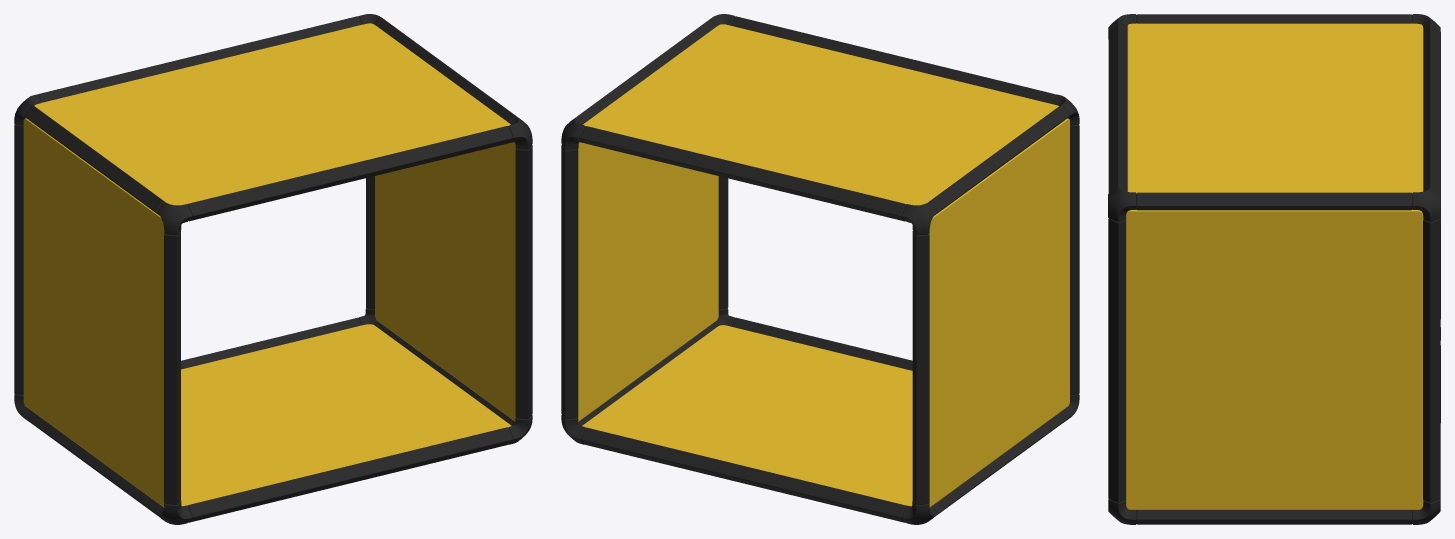
3 renders of one model, left to right at view 1: azimuth 30°, elevation 25°; view 2: azimuth 150°, elevation 25°; view 3: azimuth 270°, elevation 25°, orthographic. The views are drawn at different scales.
Parts seen in each view (by area): view 1: 523x374x420; view 2: 523x374x420; view 3: 523x374x420.
Part boxes in pixels (x1=…): 523x374x420: x1=14, y1=14, x2=532, y2=524; 523x374x420: x1=561, y1=14, x2=1079, y2=524; 523x374x420: x1=1108, y1=14, x2=1440, y2=524.
Size of the model in its own units: 0.6007 by 0.4977 by 0.4514.
